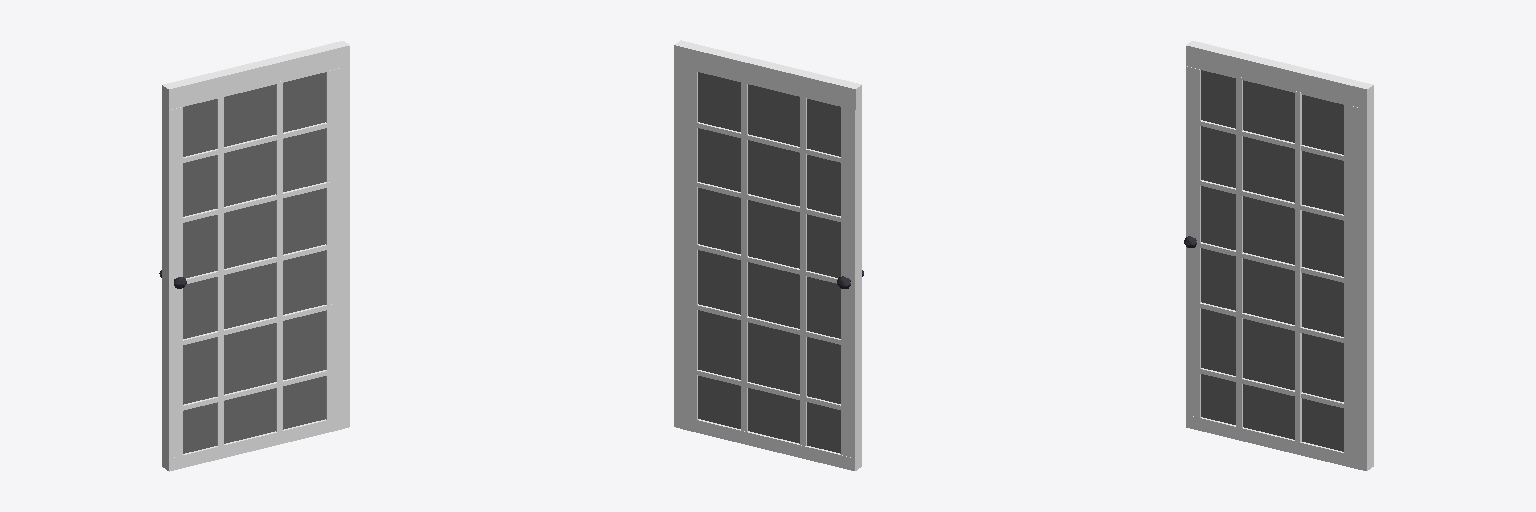
Rendered from patioDoor.obj.
3 views of the same model, side by side, from view 1: azimuth 30°, elevation 25°; view 2: azimuth 150°, elevation 25°; view 3: azimuth 330°, elevation 25° (orthographic).
Visible parts, largest first — view 1: sweethome3d_window_pane, right, left, Cube_12, Cube_11, bottom, Cube_4_1, Cube_4, top, Cube_5_1, Cube_5_3, Cube_5 (+2 smaller); view 2: sweethome3d_window_pane, right, left, Cube_11, Cube_12, bottom, Cube_4_1, Cube_4, top, Cube_5, Cube_5_1, Cube_5_3 (+2 smaller); view 3: sweethome3d_window_pane, Cube_11, left, right, Cube_12, bottom, Cube_4_1, Cube_4, top, Cube_5_3, Cube_5_1, Cube_5 (+2 smaller).
Part boxes in pixels (left/top/right/bottom): sweethome3d_window_pane: left=183, top=72, right=325, bottom=453; right: left=162, top=106, right=182, bottom=465; left: left=326, top=68, right=341, bottom=419; Cube_12: left=162, top=41, right=349, bottom=99; Cube_11: left=342, top=66, right=349, bottom=428; bottom: left=162, top=417, right=341, bottom=471; Cube_4_1: left=217, top=95, right=223, bottom=446; Cube_4: left=276, top=81, right=282, bottom=431; top: left=162, top=56, right=349, bottom=110; Cube_5_1: left=174, top=304, right=333, bottom=347; Cube_5_3: left=175, top=181, right=334, bottom=224; Cube_5: left=183, top=370, right=326, bottom=410; sweethome3d_window_pane: left=698, top=72, right=840, bottom=453; right: left=841, top=106, right=861, bottom=465; left: left=684, top=69, right=697, bottom=419; Cube_11: left=674, top=66, right=683, bottom=428; Cube_12: left=674, top=40, right=861, bottom=99; bottom: left=683, top=417, right=861, bottom=470; Cube_4_1: left=800, top=97, right=806, bottom=445; Cube_4: left=741, top=83, right=747, bottom=431; top: left=674, top=55, right=861, bottom=109; Cube_5: left=697, top=370, right=840, bottom=409; Cube_5_1: left=697, top=304, right=840, bottom=344; Cube_5_3: left=697, top=182, right=840, bottom=221; sweethome3d_window_pane: left=1201, top=70, right=1343, bottom=451; Cube_11: left=1359, top=106, right=1373, bottom=470; left: left=1344, top=104, right=1358, bottom=456; right: left=1186, top=66, right=1200, bottom=417; Cube_12: left=1186, top=41, right=1373, bottom=99; bottom: left=1186, top=415, right=1358, bottom=469; Cube_4_1: left=1236, top=76, right=1242, bottom=427; Cube_4: left=1295, top=91, right=1301, bottom=442; top: left=1186, top=56, right=1373, bottom=109; Cube_5_3: left=1192, top=179, right=1351, bottom=222; Cube_5_1: left=1191, top=301, right=1350, bottom=344; Cube_5: left=1200, top=368, right=1343, bottom=407.
Size of the model in its own units: 7.39 by 14.87 by 1.37.